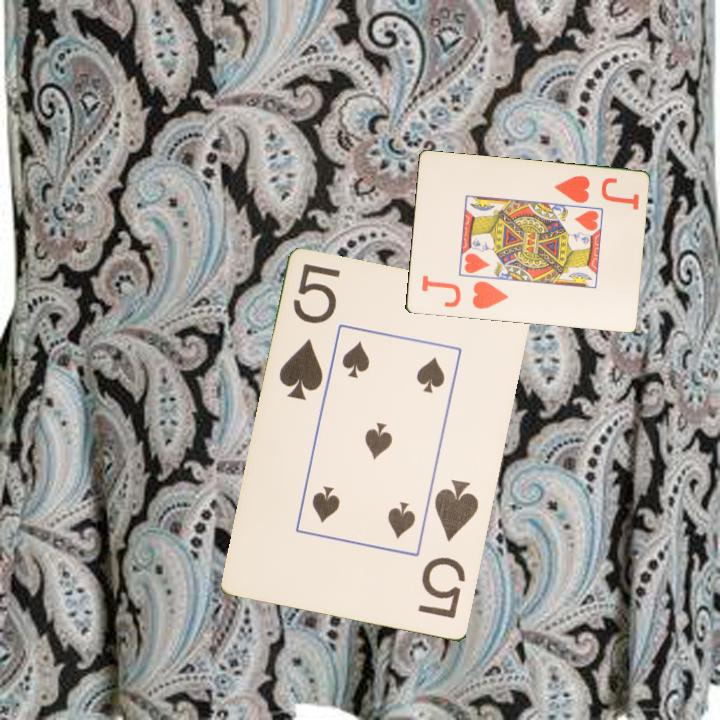5s: (414, 477, 482, 622), (276, 260, 344, 404)
Jh: (418, 273, 511, 312), (550, 172, 593, 206)
